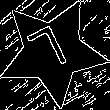L_SE: (28, 22, 77, 81)
